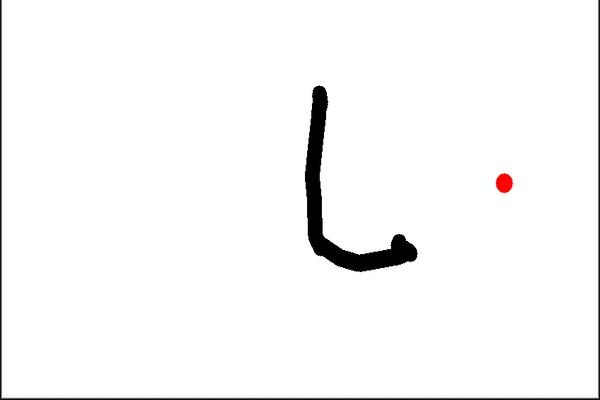L: (293, 79, 425, 279)
